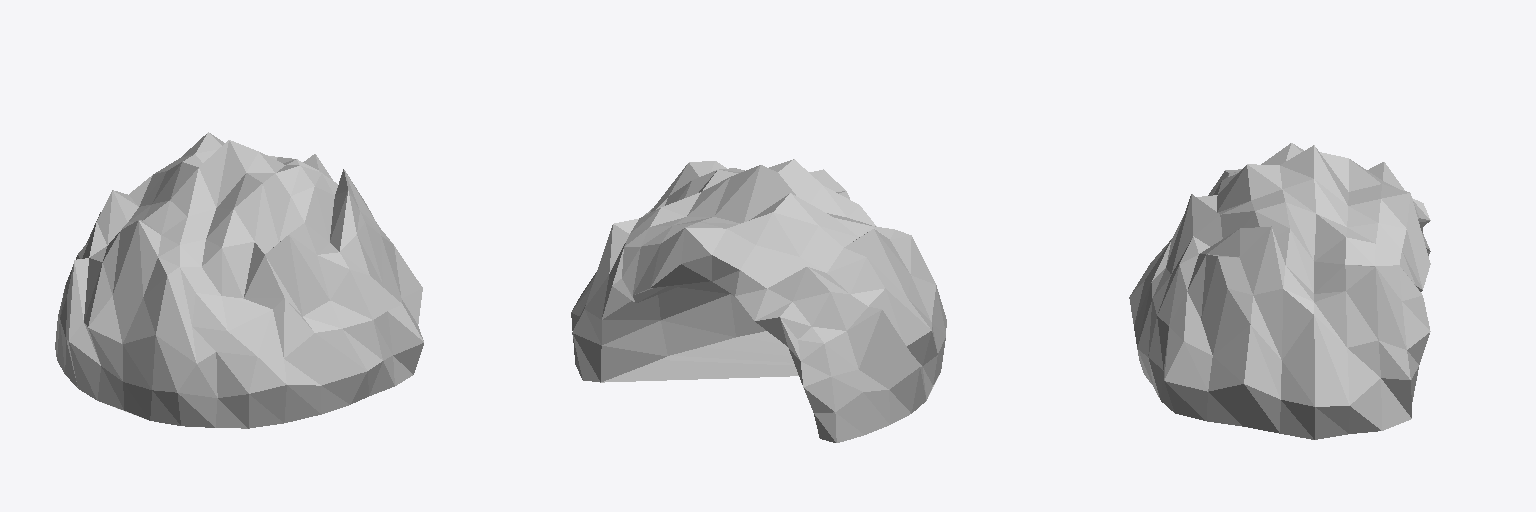
Rendered from cave.obj.
The picture shows the model from 3 angles: view 1: azimuth 30°, elevation 25°; view 2: azimuth 150°, elevation 25°; view 3: azimuth 270°, elevation 25°; orthographic projection.
Parts seen in each view (by area): view 1: Cube_Cube.001; view 2: Cube_Cube.001; view 3: Cube_Cube.001.
Boxes of the visible parts, x1=… form: Cube_Cube.001: x1=55, y1=132, x2=423, y2=428; Cube_Cube.001: x1=571, y1=159, x2=946, y2=442; Cube_Cube.001: x1=1129, y1=143, x2=1430, y2=439.
Bounding box in the file's own units: 1.93 × 1.15 × 1.48.